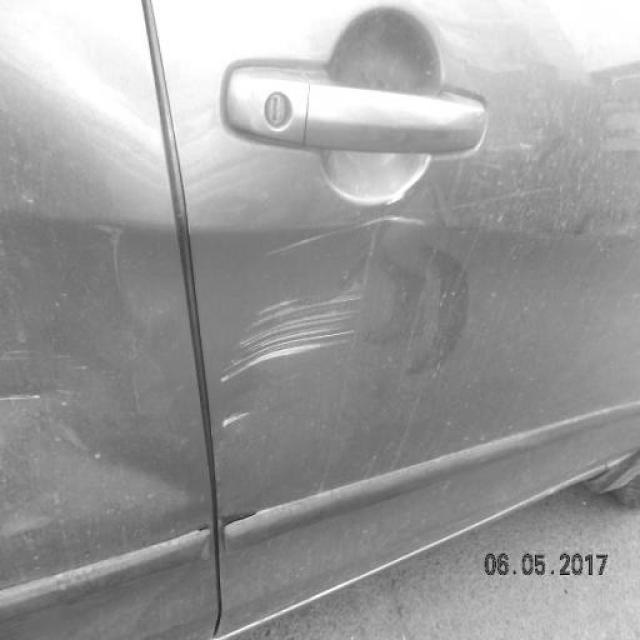car damage: (0, 209, 170, 539), (219, 290, 368, 388), (260, 209, 437, 268), (93, 214, 127, 296), (218, 405, 253, 441)
